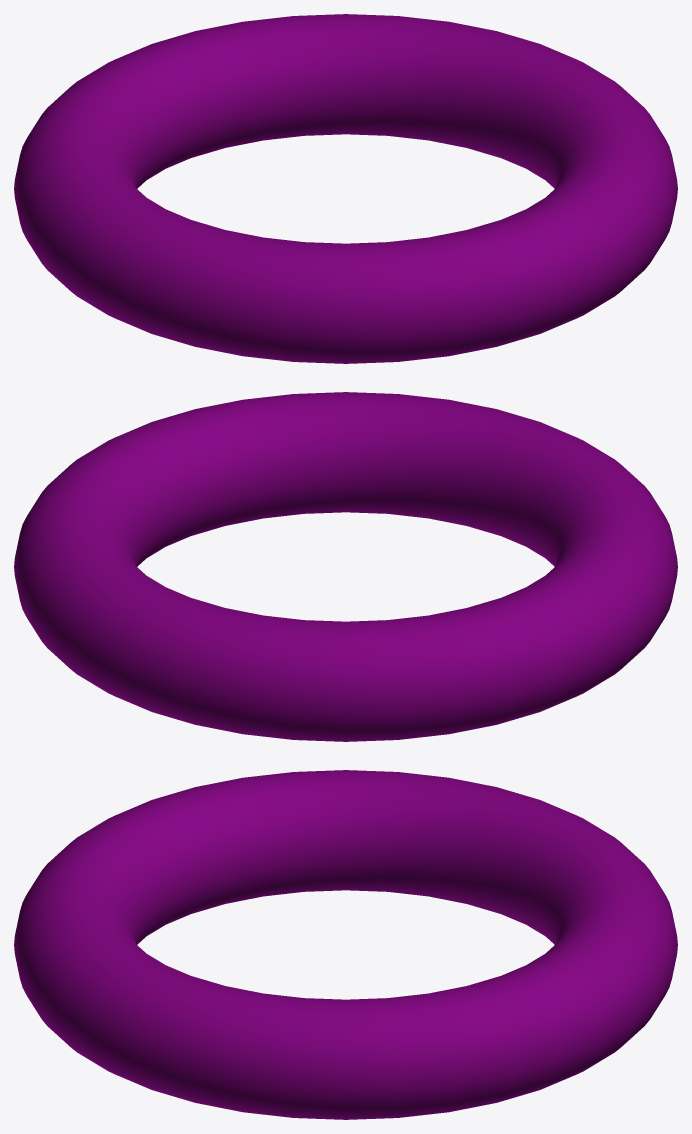
3 views of the same model, one above another, from view 1: azimuth 30°, elevation 25°; view 2: azimuth 150°, elevation 25°; view 3: azimuth 270°, elevation 25° (orthographic).
Parts seen in each view (by area): view 1: Crystal; view 2: Crystal; view 3: Crystal.
Part boxes in pixels (x1,y1,x2,y2): Crystal: (14, 14, 677, 363); Crystal: (14, 392, 677, 741); Crystal: (14, 770, 677, 1119).
Bounding box in the file's own units: 0.2794 × 0.0508 × 0.2794.
